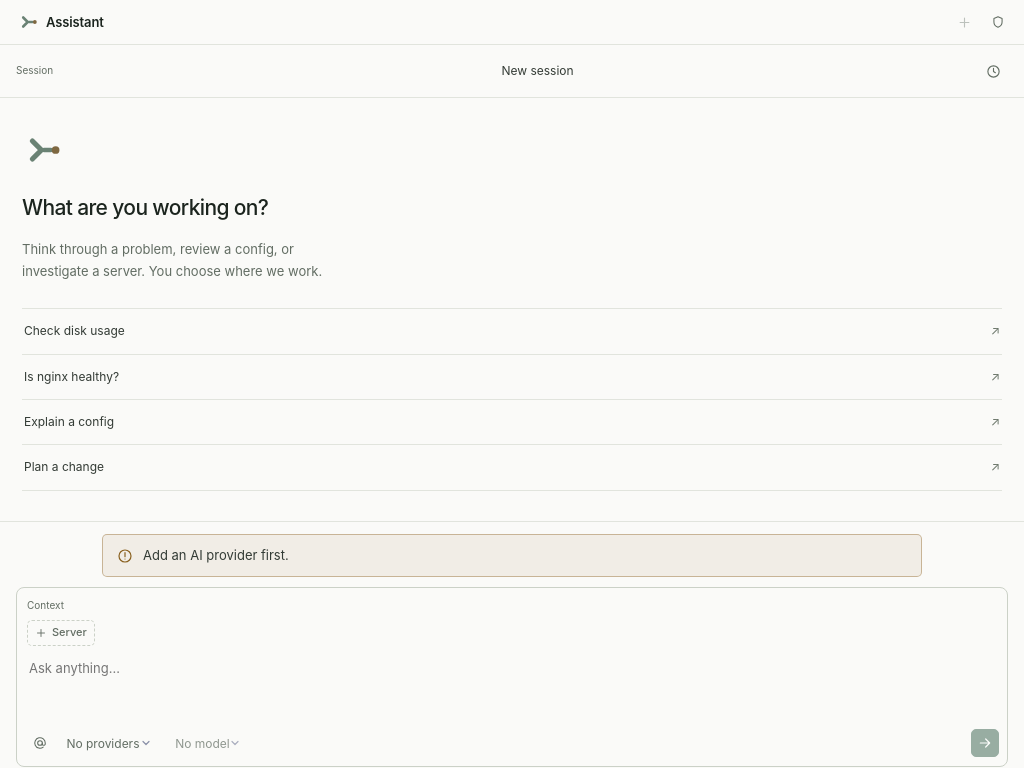
Test: AgentPanel › runs one parallel task per mentioned server and shows the shared request once
Type "@prod" into the text box named "Request" at [512, 684], box x1=17 y1=646 x2=1007 y2=722
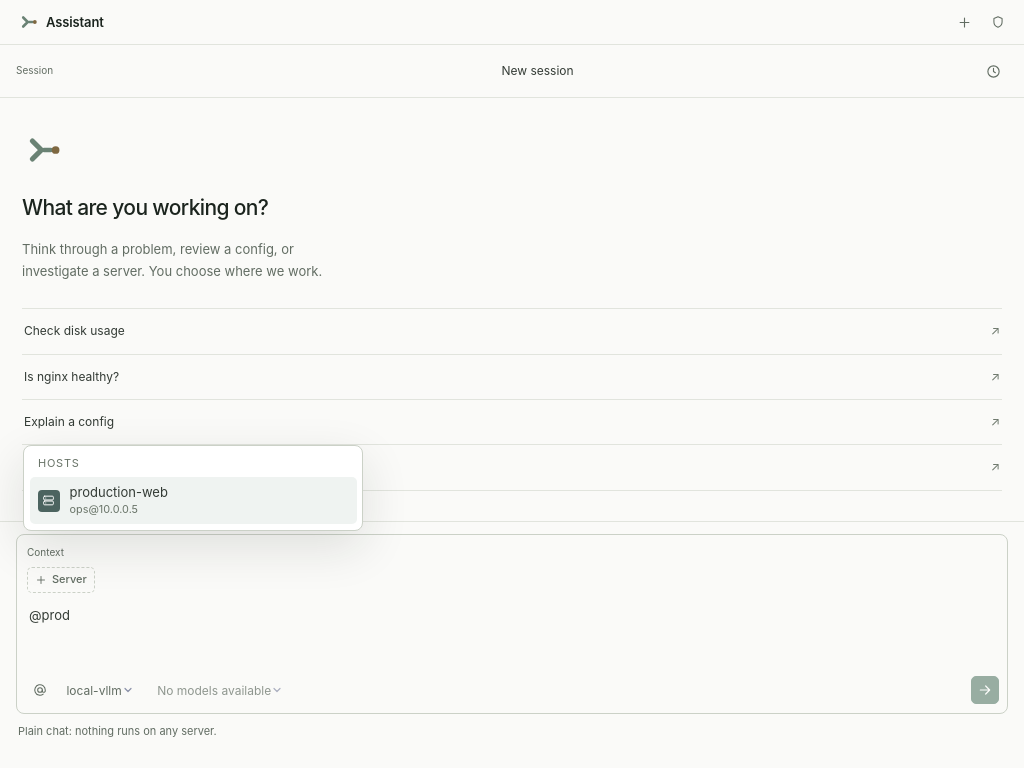
Click the button "production-web ops@10.0.0.5" at [119, 492], box x1=30 y1=477 x2=357 y2=524
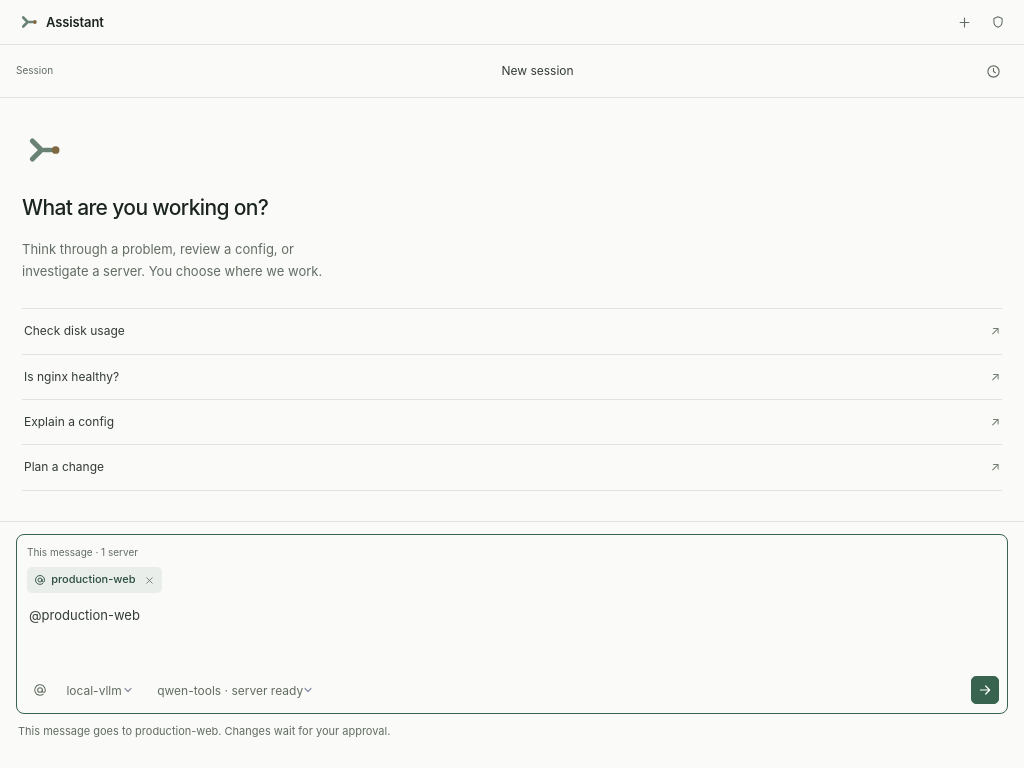
Replace the text in the text box named "Request" with "@production-web @stag" at [512, 631], box x1=17 y1=593 x2=1007 y2=669
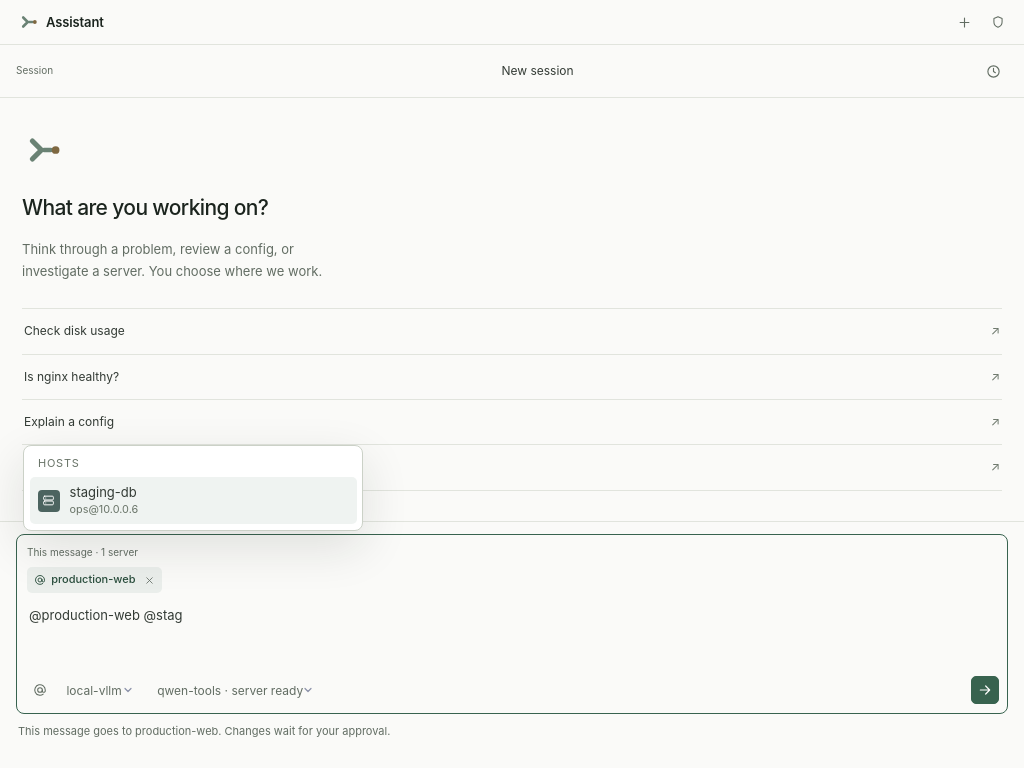
Click the button "staging-db ops@10.0.0.6" at [103, 492], box x1=30 y1=477 x2=357 y2=524
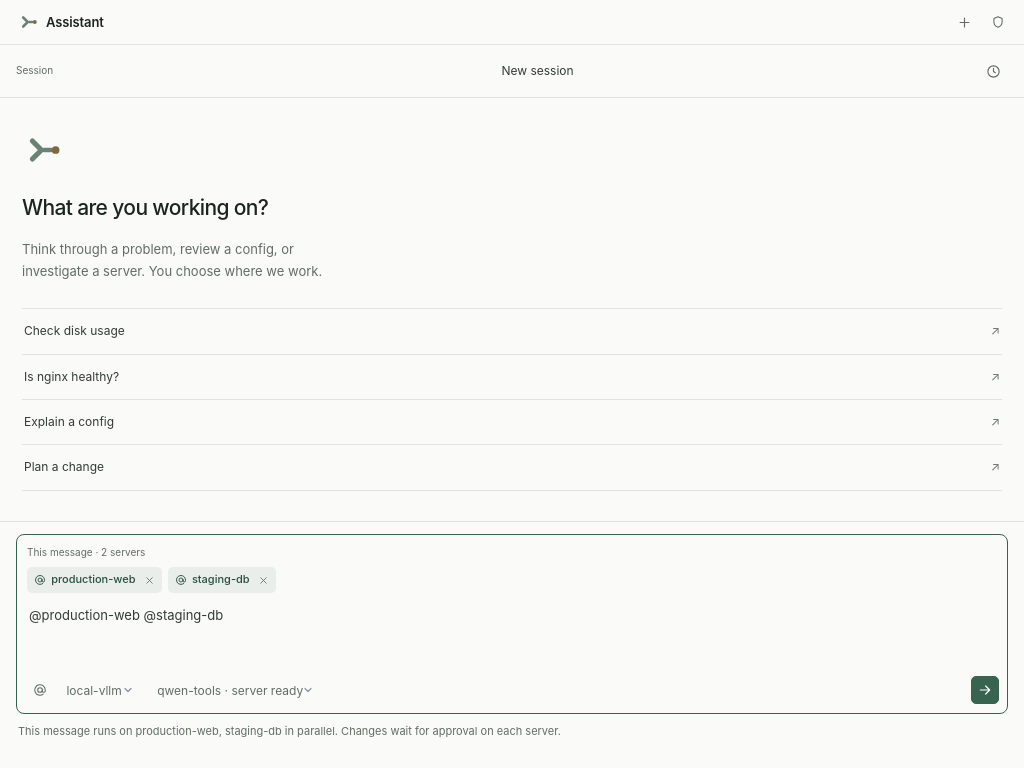
Replace the text in the text box named "Request" with "@production-web @staging-db check disk usage" at [512, 631], box x1=17 y1=593 x2=1007 y2=669
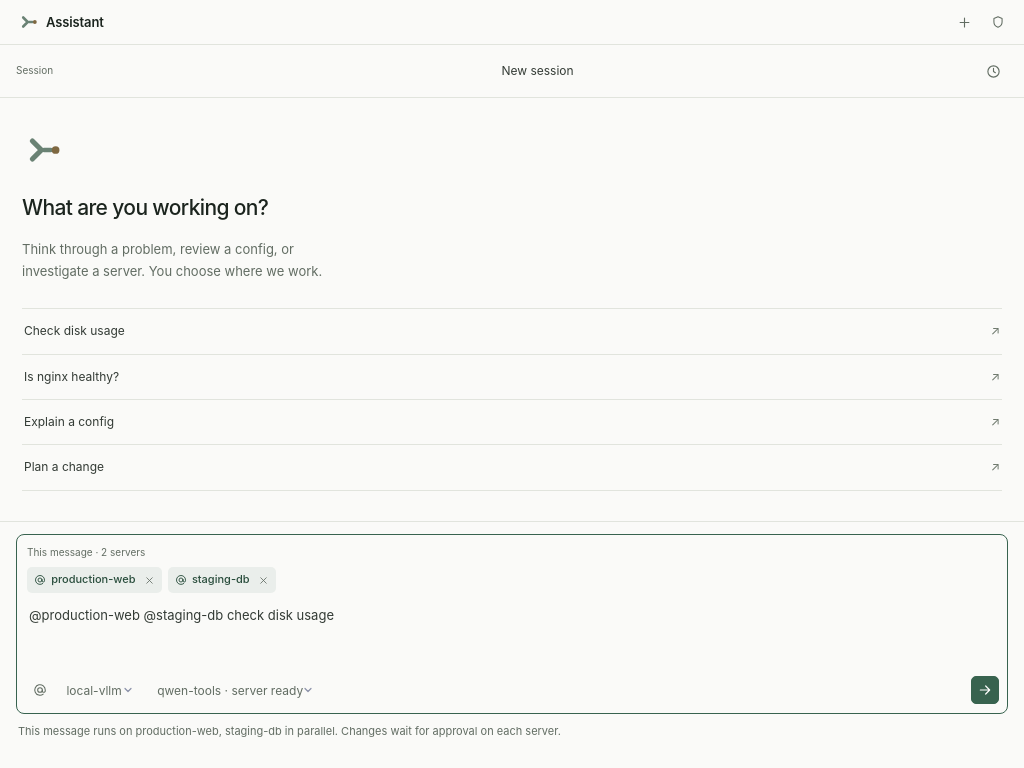
expect the button named "Send" is enabled: met
Click the button named "Send" at [985, 690], box x1=971 y1=676 x2=999 y2=704
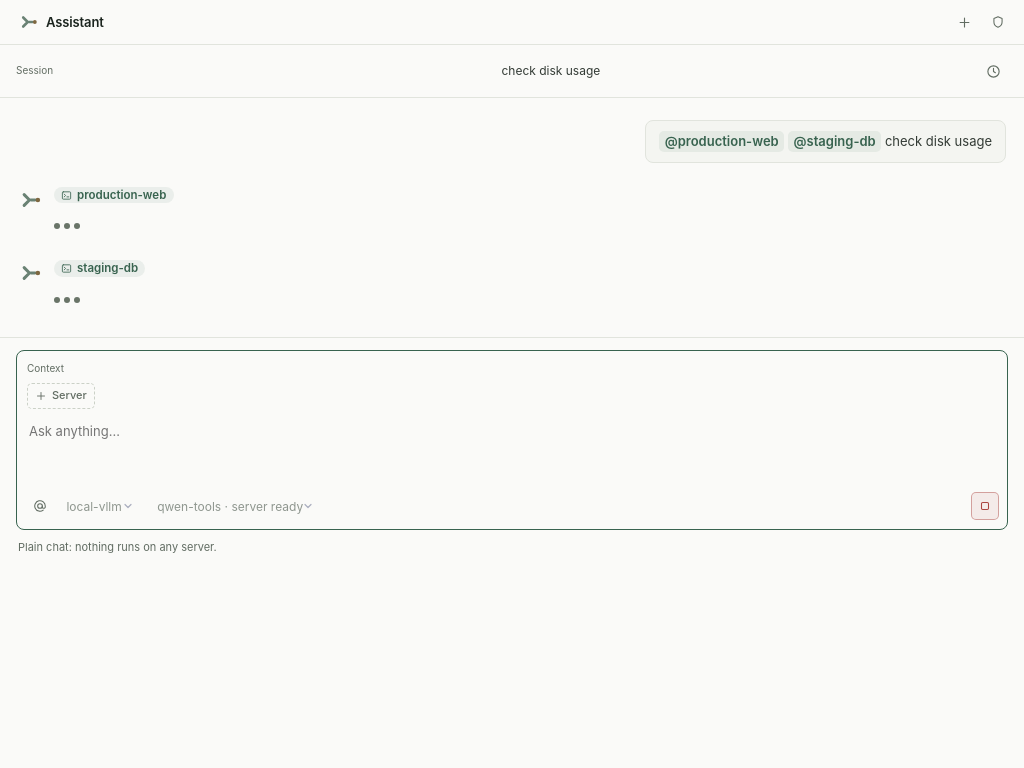
expect the text "production-web" is shown: met, box x1=54 y1=187 x2=174 y2=204
expect the text "staging-db" is shown: met, box x1=54 y1=260 x2=145 y2=276
expect the text "check disk usage" is shown once: met, box x1=645 y1=120 x2=1006 y2=163
